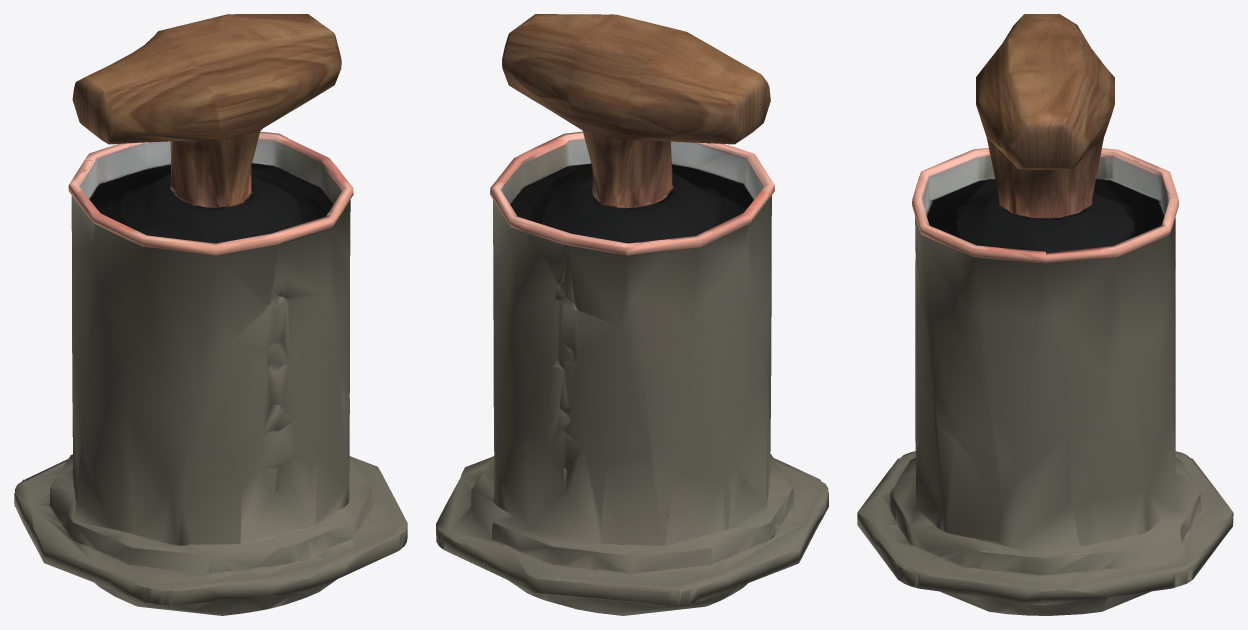
File: aeropress.glb
3 views of the same model, side by side, from view 1: azimuth 30°, elevation 25°; view 2: azimuth 150°, elevation 25°; view 3: azimuth 270°, elevation 25° (orthographic). The views are drawn at different scales.
Parts seen in each view (by area): view 1: Mesh1.0; view 2: Mesh1.0; view 3: Mesh1.0.
Boxes of the visible parts, x1,y1,x2,y2 form: Mesh1.0: [14, 14, 407, 615]; Mesh1.0: [436, 14, 828, 615]; Mesh1.0: [857, 14, 1233, 615].
Size of the model in its own units: 1.28 by 1.91 by 1.28.
Materials: 1 (1 with a texture image).
